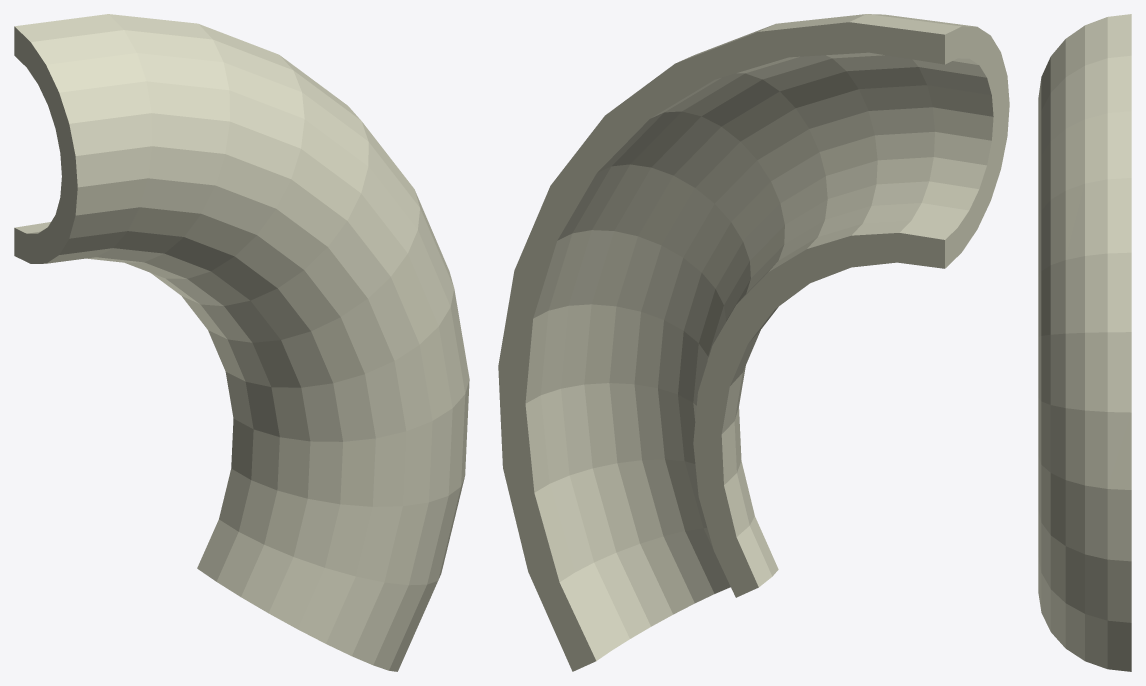
Rendered from section_137.obj.
3 renders of one model, left to right at view 1: azimuth 30°, elevation 25°; view 2: azimuth 150°, elevation 25°; view 3: azimuth 270°, elevation 25°, orthographic. The views are drawn at different scales.
Bounding box in the file's own units: 15.97 × 24.87 × 4.
